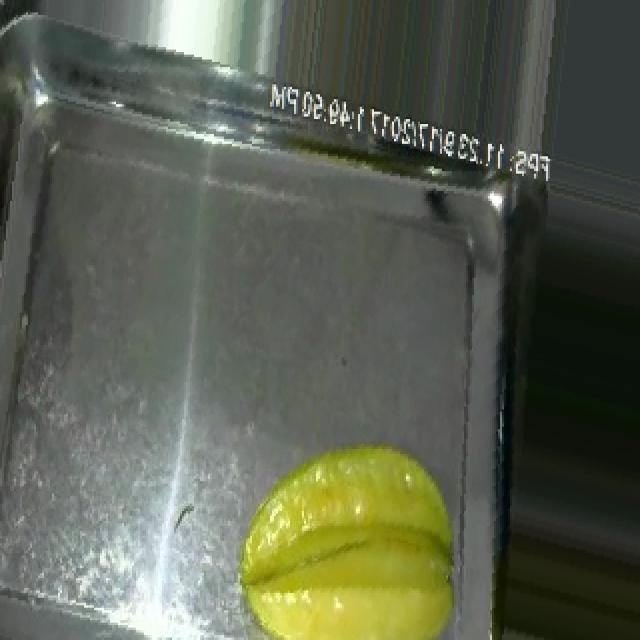fruit: (218, 421, 476, 640)
